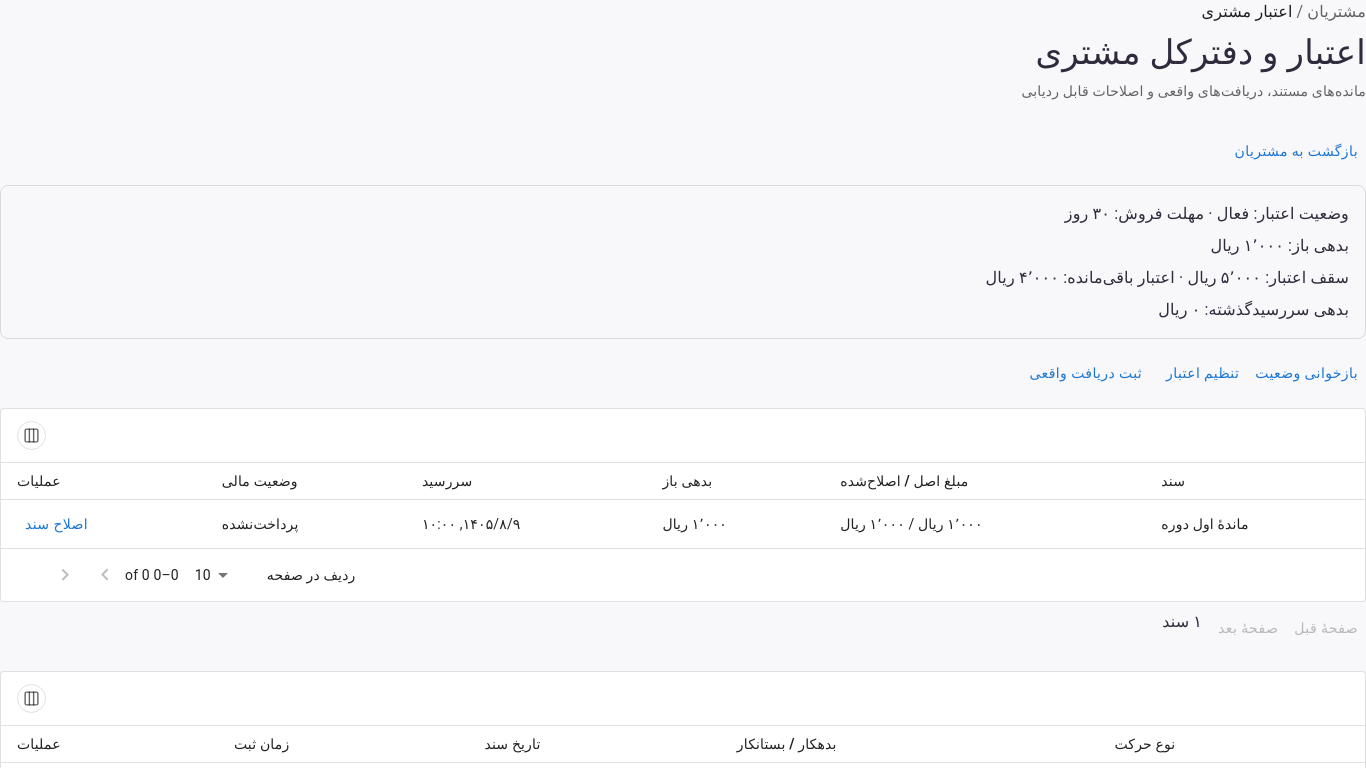
Credit operator workflow and ambiguous outcome recovery › keeps the exact payload/key after a timeout and prevents a second command until replay resolves
Click the button "ثبت دریافت واقعی" at (1086, 374), box [1022,355,1150,392]
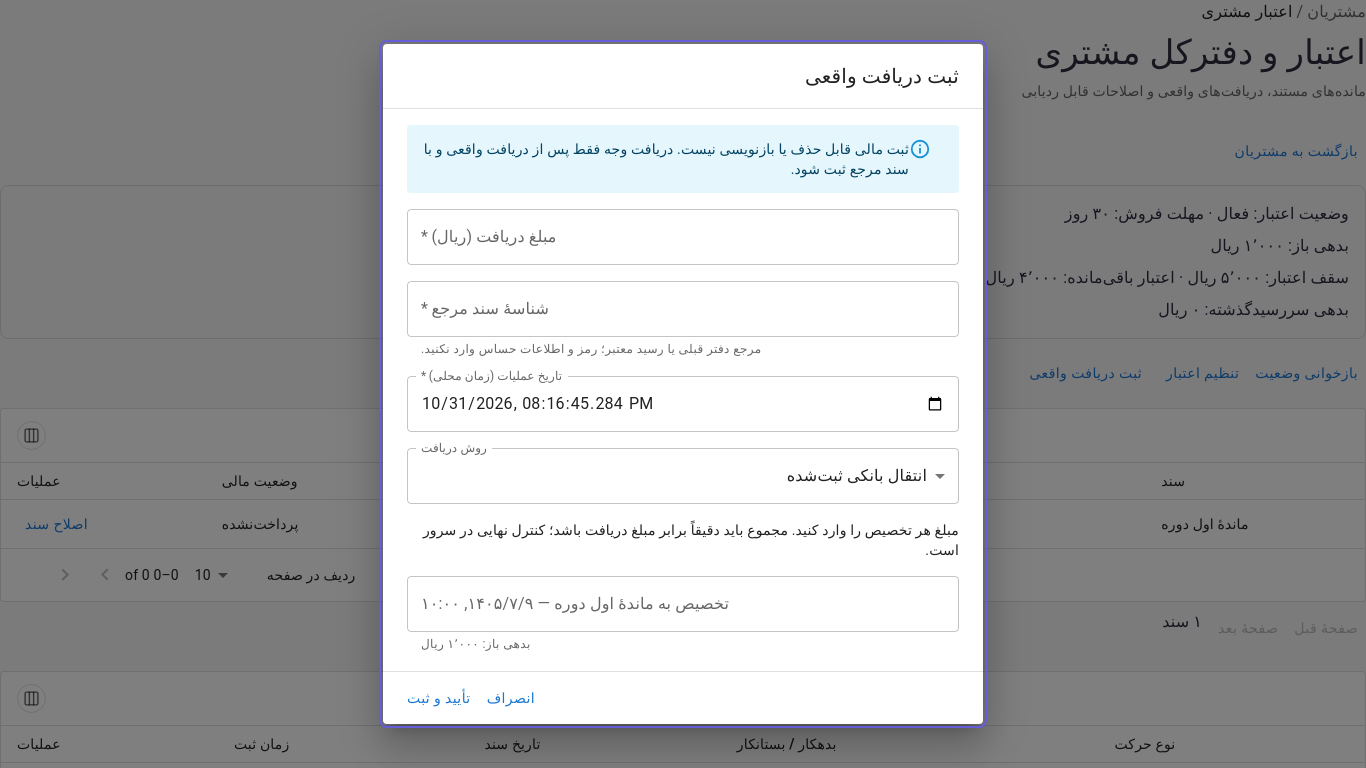
Type "500" into the field labelled "مبلغ دریافت (ریال)" at (683, 237), box [407,209,959,265]
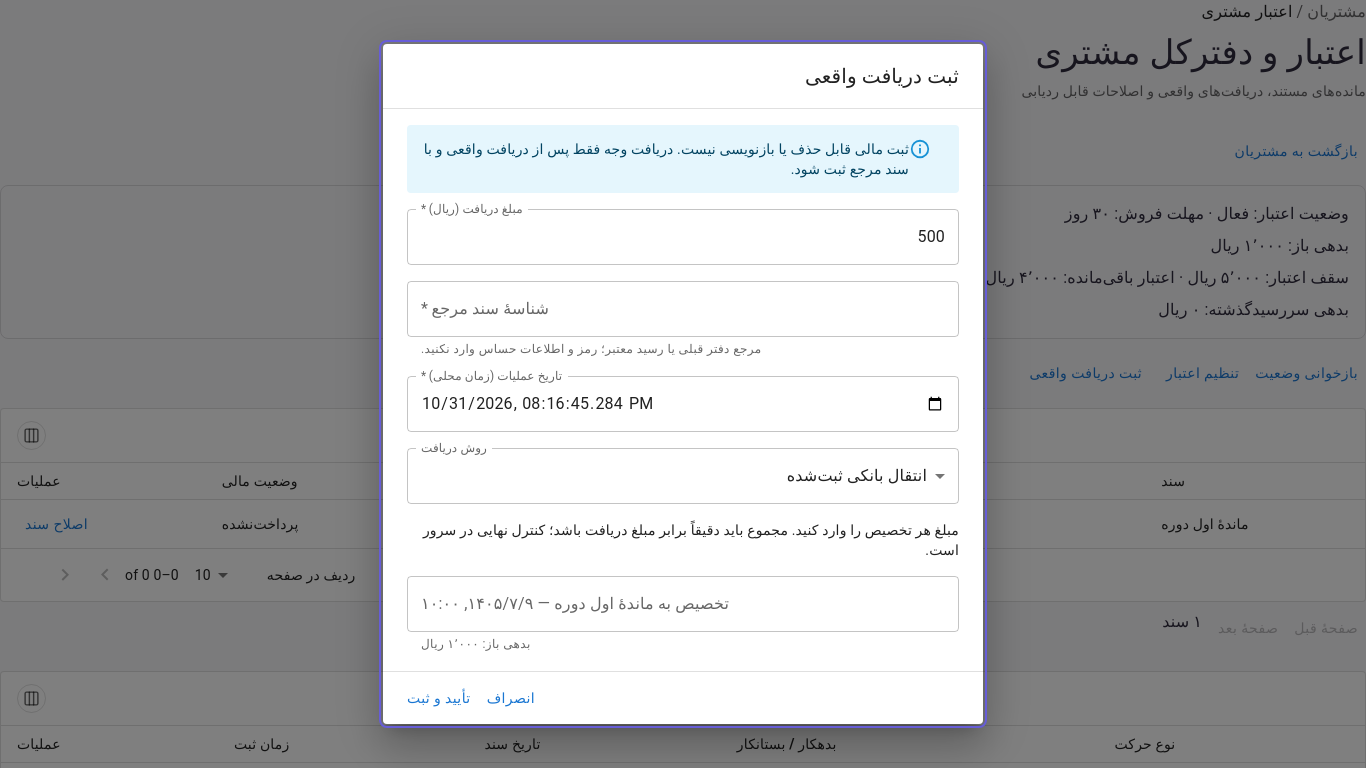
Type "isolated-receipt-reference" into the field labelled "شناسهٔ سند مرجع" at (683, 309), box [407,281,959,337]
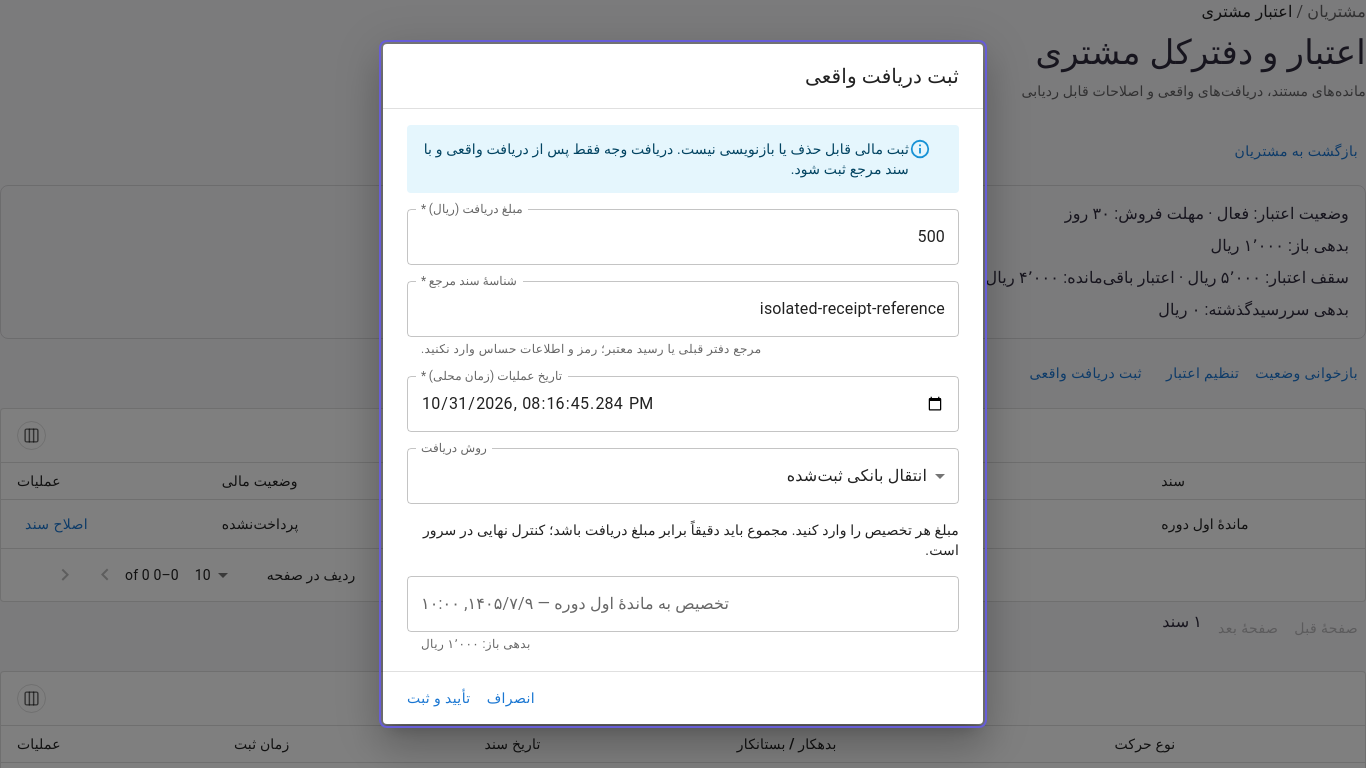
Type "500" into the field labelled "تخصیص به ماندهٔ اول دوره — ۱۴۰۵/۷/۹, ۱۰:۰۰" at (683, 604), box [407,576,959,632]
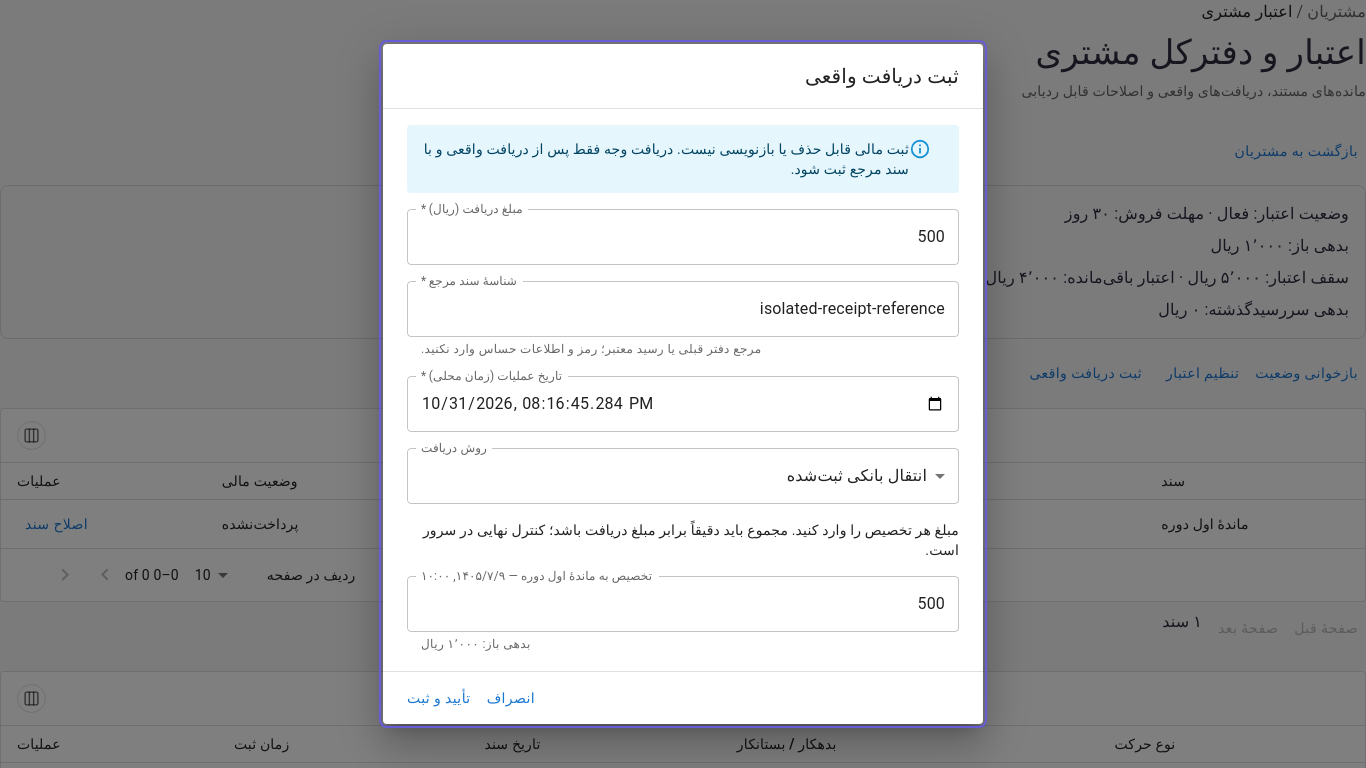
Click the button "تأیید و ثبت" at (439, 698), box [399,680,479,716]
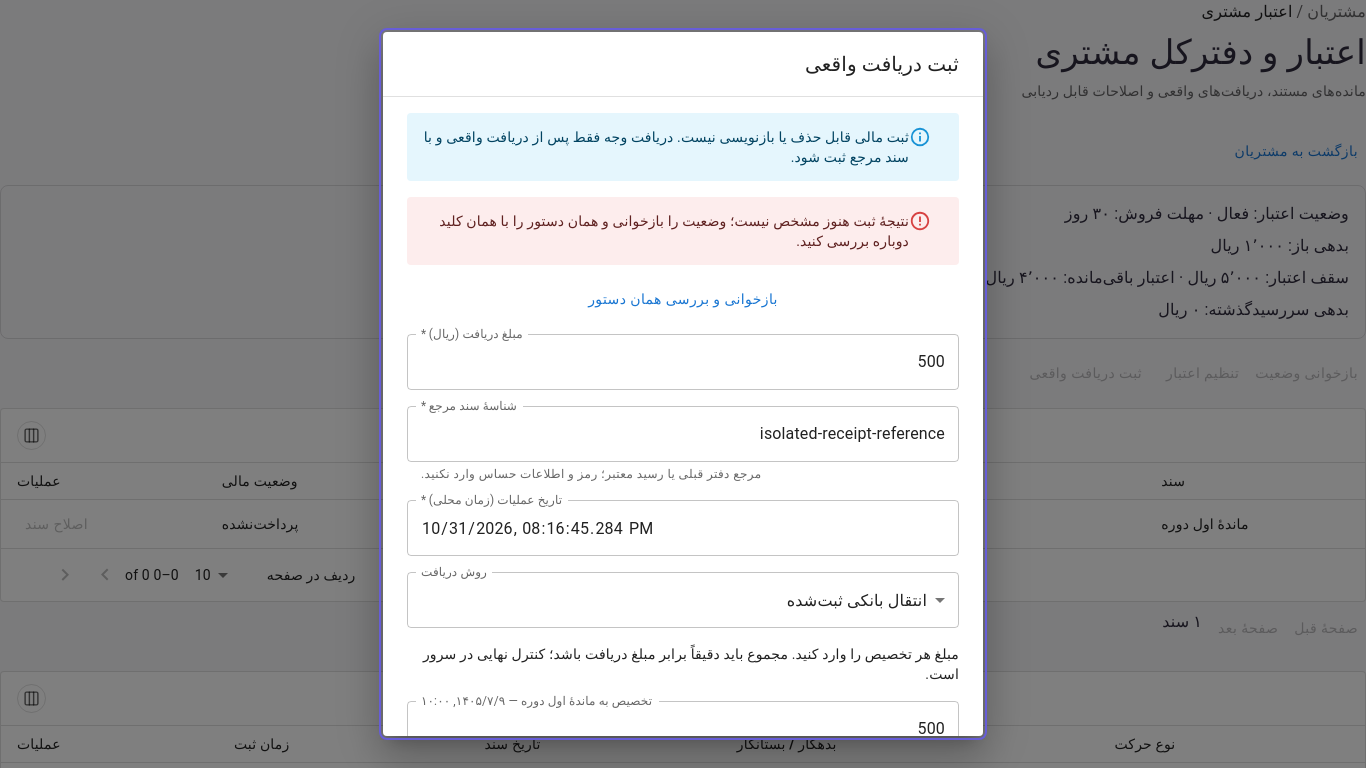
Click the button "بازخوانی و بررسی همان دستور" at (683, 299), box [407,281,959,318]
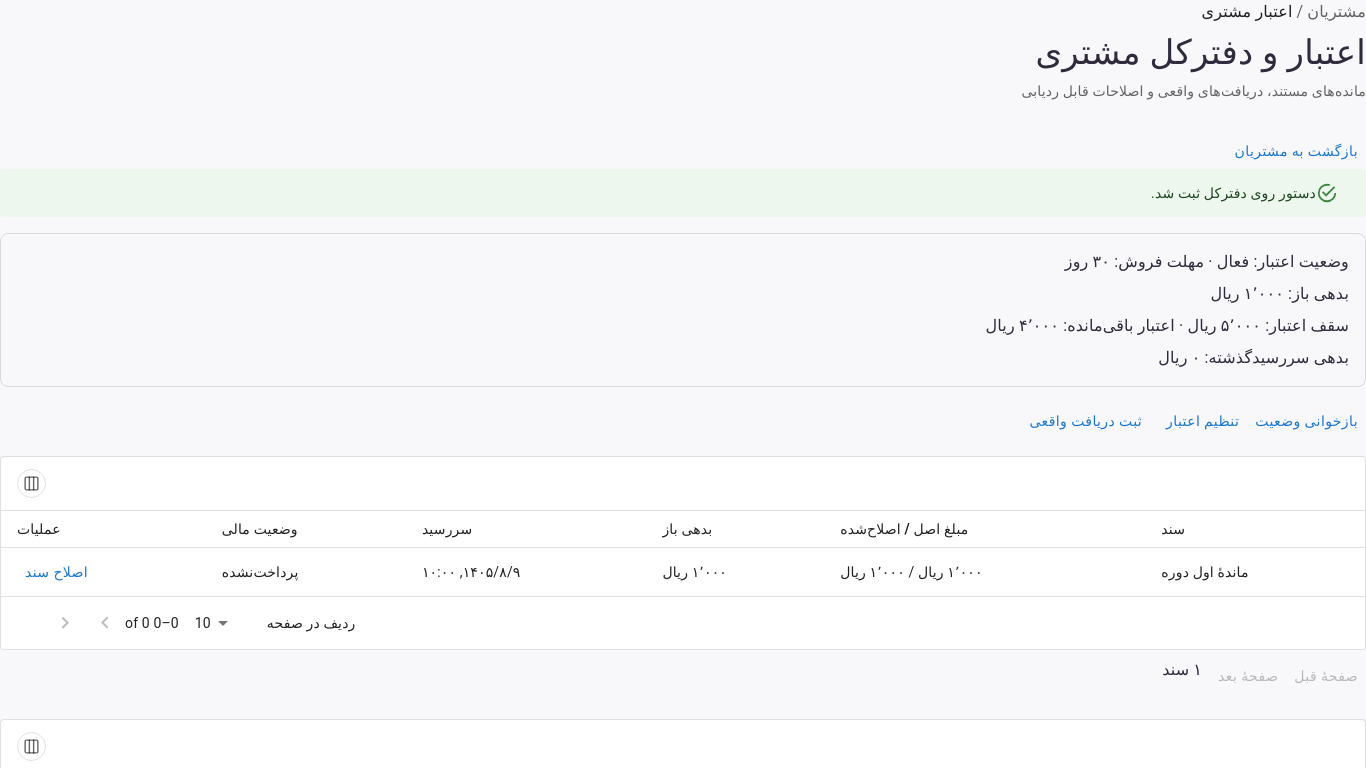
Expected: the text "دستور روی دفترکل ثبت شد." is shown, [1151,185,1316,201]
